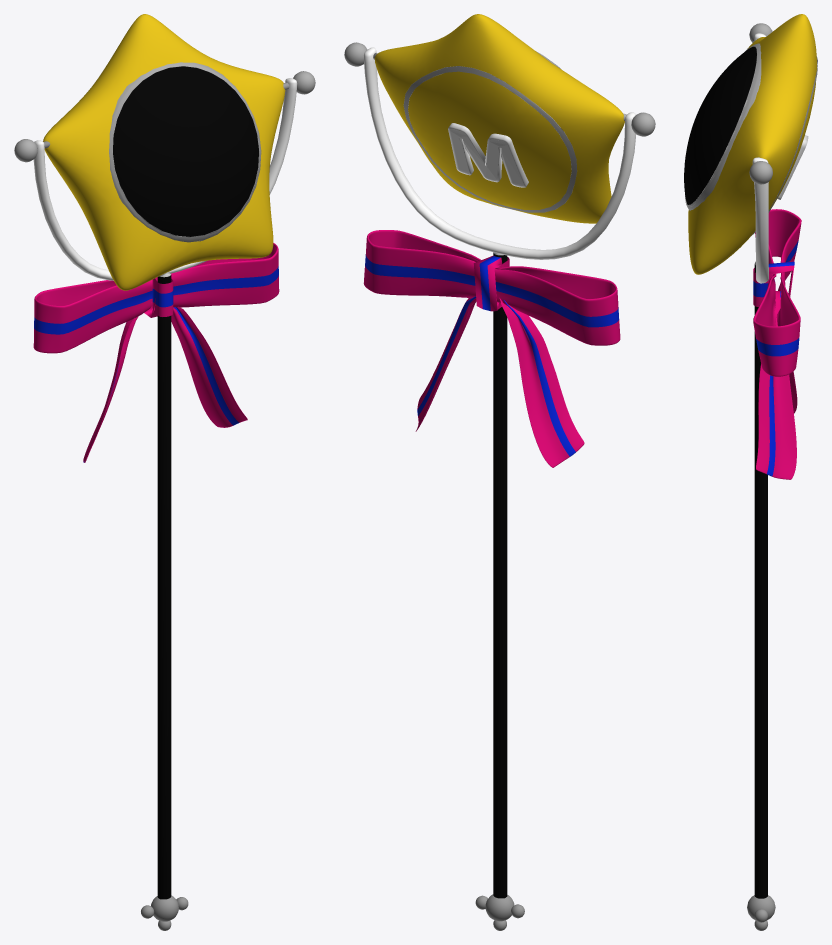
The model's file is magicalmirai2022_test02.glb.
The picture shows the model from 3 angles, left to right: view 1: azimuth 30°, elevation 25°; view 2: azimuth 150°, elevation 25°; view 3: azimuth 270°, elevation 25°; orthographic projection. The views are drawn at different scales.
Parts seen in each view (by area): view 1: 円, microphone, 立方体.001, StandCenter, 平面, Stand_top, microphoneOutside, 円柱; view 2: 円, 立方体.001, StandCenter, 平面, Stand_top, テキスト.002, microphoneOutside.001, 立方体; view 3: 円, StandCenter, microphone, 立方体.001, 平面, Stand_top, microphoneOutside, Standbottom, pin_R, 円柱, 立方体, microphoneOutside.001.
Part boxes in pixels (left/top/right/bottom): 円: left=43, top=14, right=285, bottom=290; microphone: left=113, top=66, right=258, bottom=236; 立方体.001: left=33, top=243, right=279, bottom=353; StandCenter: left=157, top=273, right=171, bottom=899; 平面: left=83, top=302, right=247, bottom=462; Stand_top: left=33, top=78, right=296, bottom=280; microphoneOutside: left=109, top=62, right=261, bottom=242; 円柱: left=152, top=279, right=173, bottom=316; 円: left=374, top=14, right=624, bottom=223; 立方体.001: left=363, top=230, right=620, bottom=345; StandCenter: left=493, top=252, right=507, bottom=898; 平面: left=415, top=296, right=584, bottom=467; Stand_top: left=363, top=47, right=636, bottom=259; テキスト.002: left=448, top=123, right=528, bottom=187; microphoneOutside.001: left=403, top=66, right=577, bottom=212; 立方体: left=473, top=255, right=502, bottom=311; 円: left=688, top=14, right=816, bottom=274; StandCenter: left=754, top=261, right=767, bottom=898; microphone: left=684, top=46, right=756, bottom=204; 立方体.001: left=753, top=209, right=801, bottom=376; 平面: left=756, top=291, right=797, bottom=479; Stand_top: left=752, top=33, right=768, bottom=283; microphoneOutside: left=685, top=43, right=761, bottom=210; Standbottom: left=747, top=895, right=775, bottom=920; pin_R: left=749, top=161, right=772, bottom=184; 円柱: left=753, top=268, right=774, bottom=306; 立方体: left=768, top=260, right=794, bottom=296; microphoneOutside.001: left=751, top=56, right=817, bottom=235.
Bounding box in the file's own units: 3.4 × 9.81 × 1.3.
